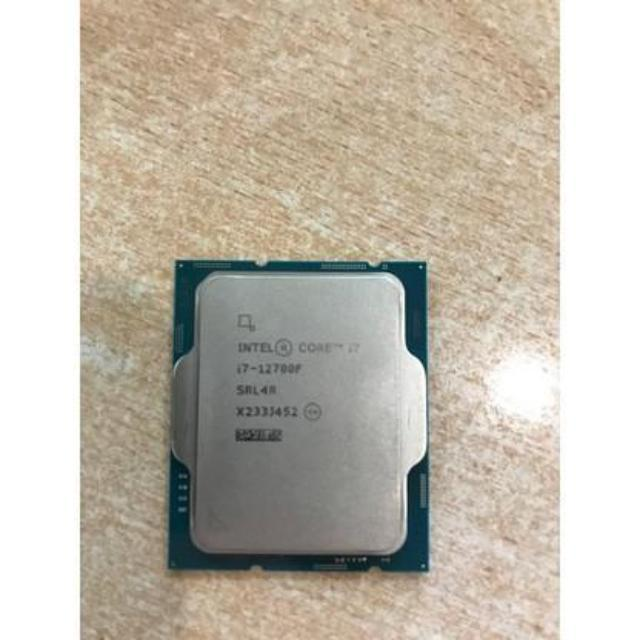CPU: (180, 263, 426, 572)
